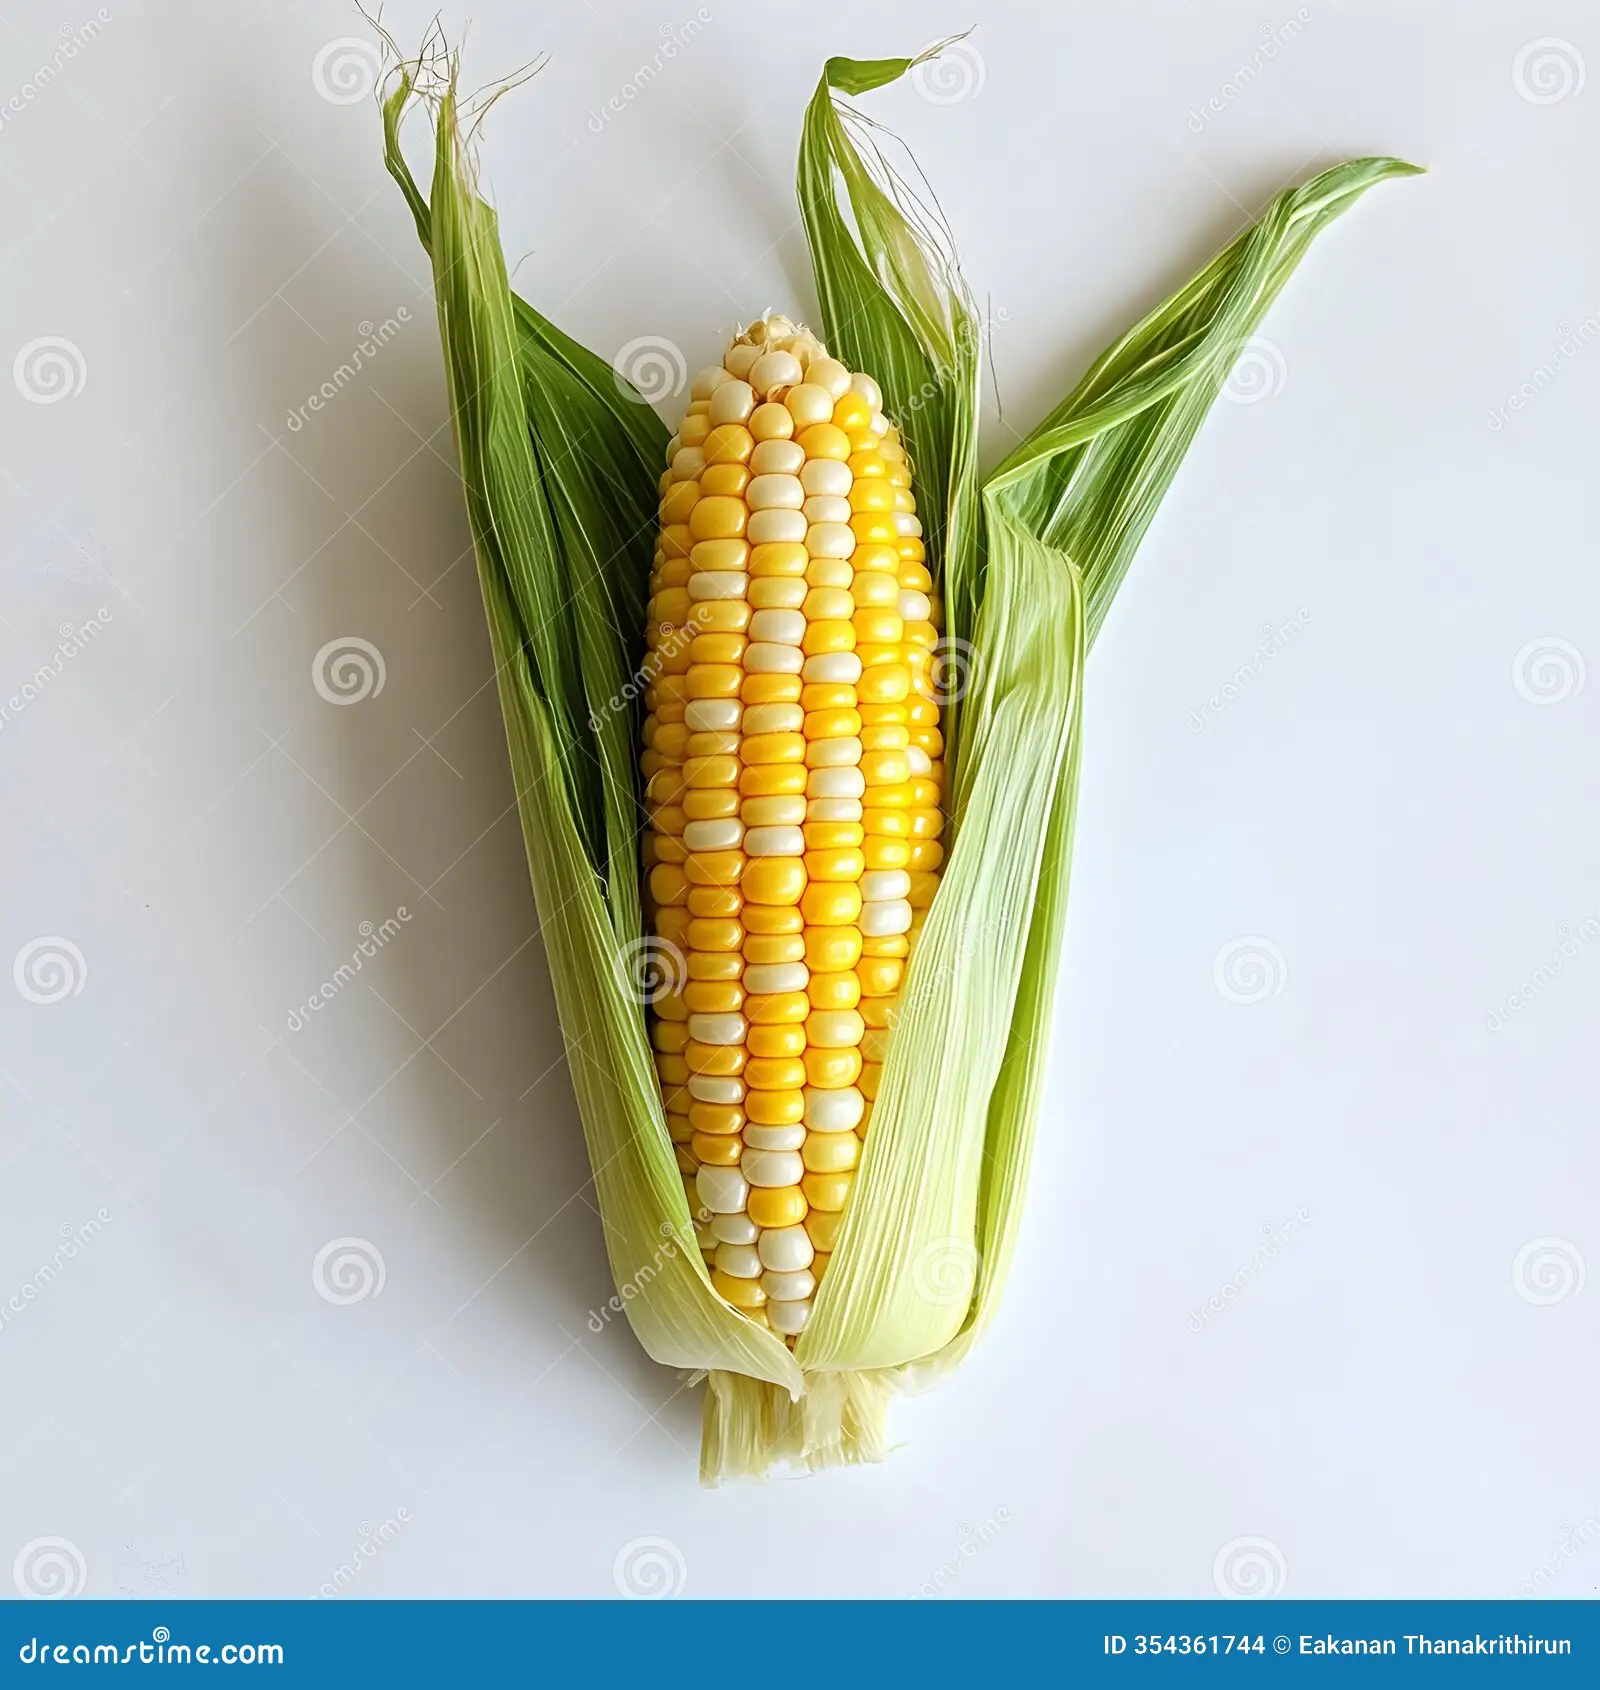corn: (353, 26, 1346, 1564)
